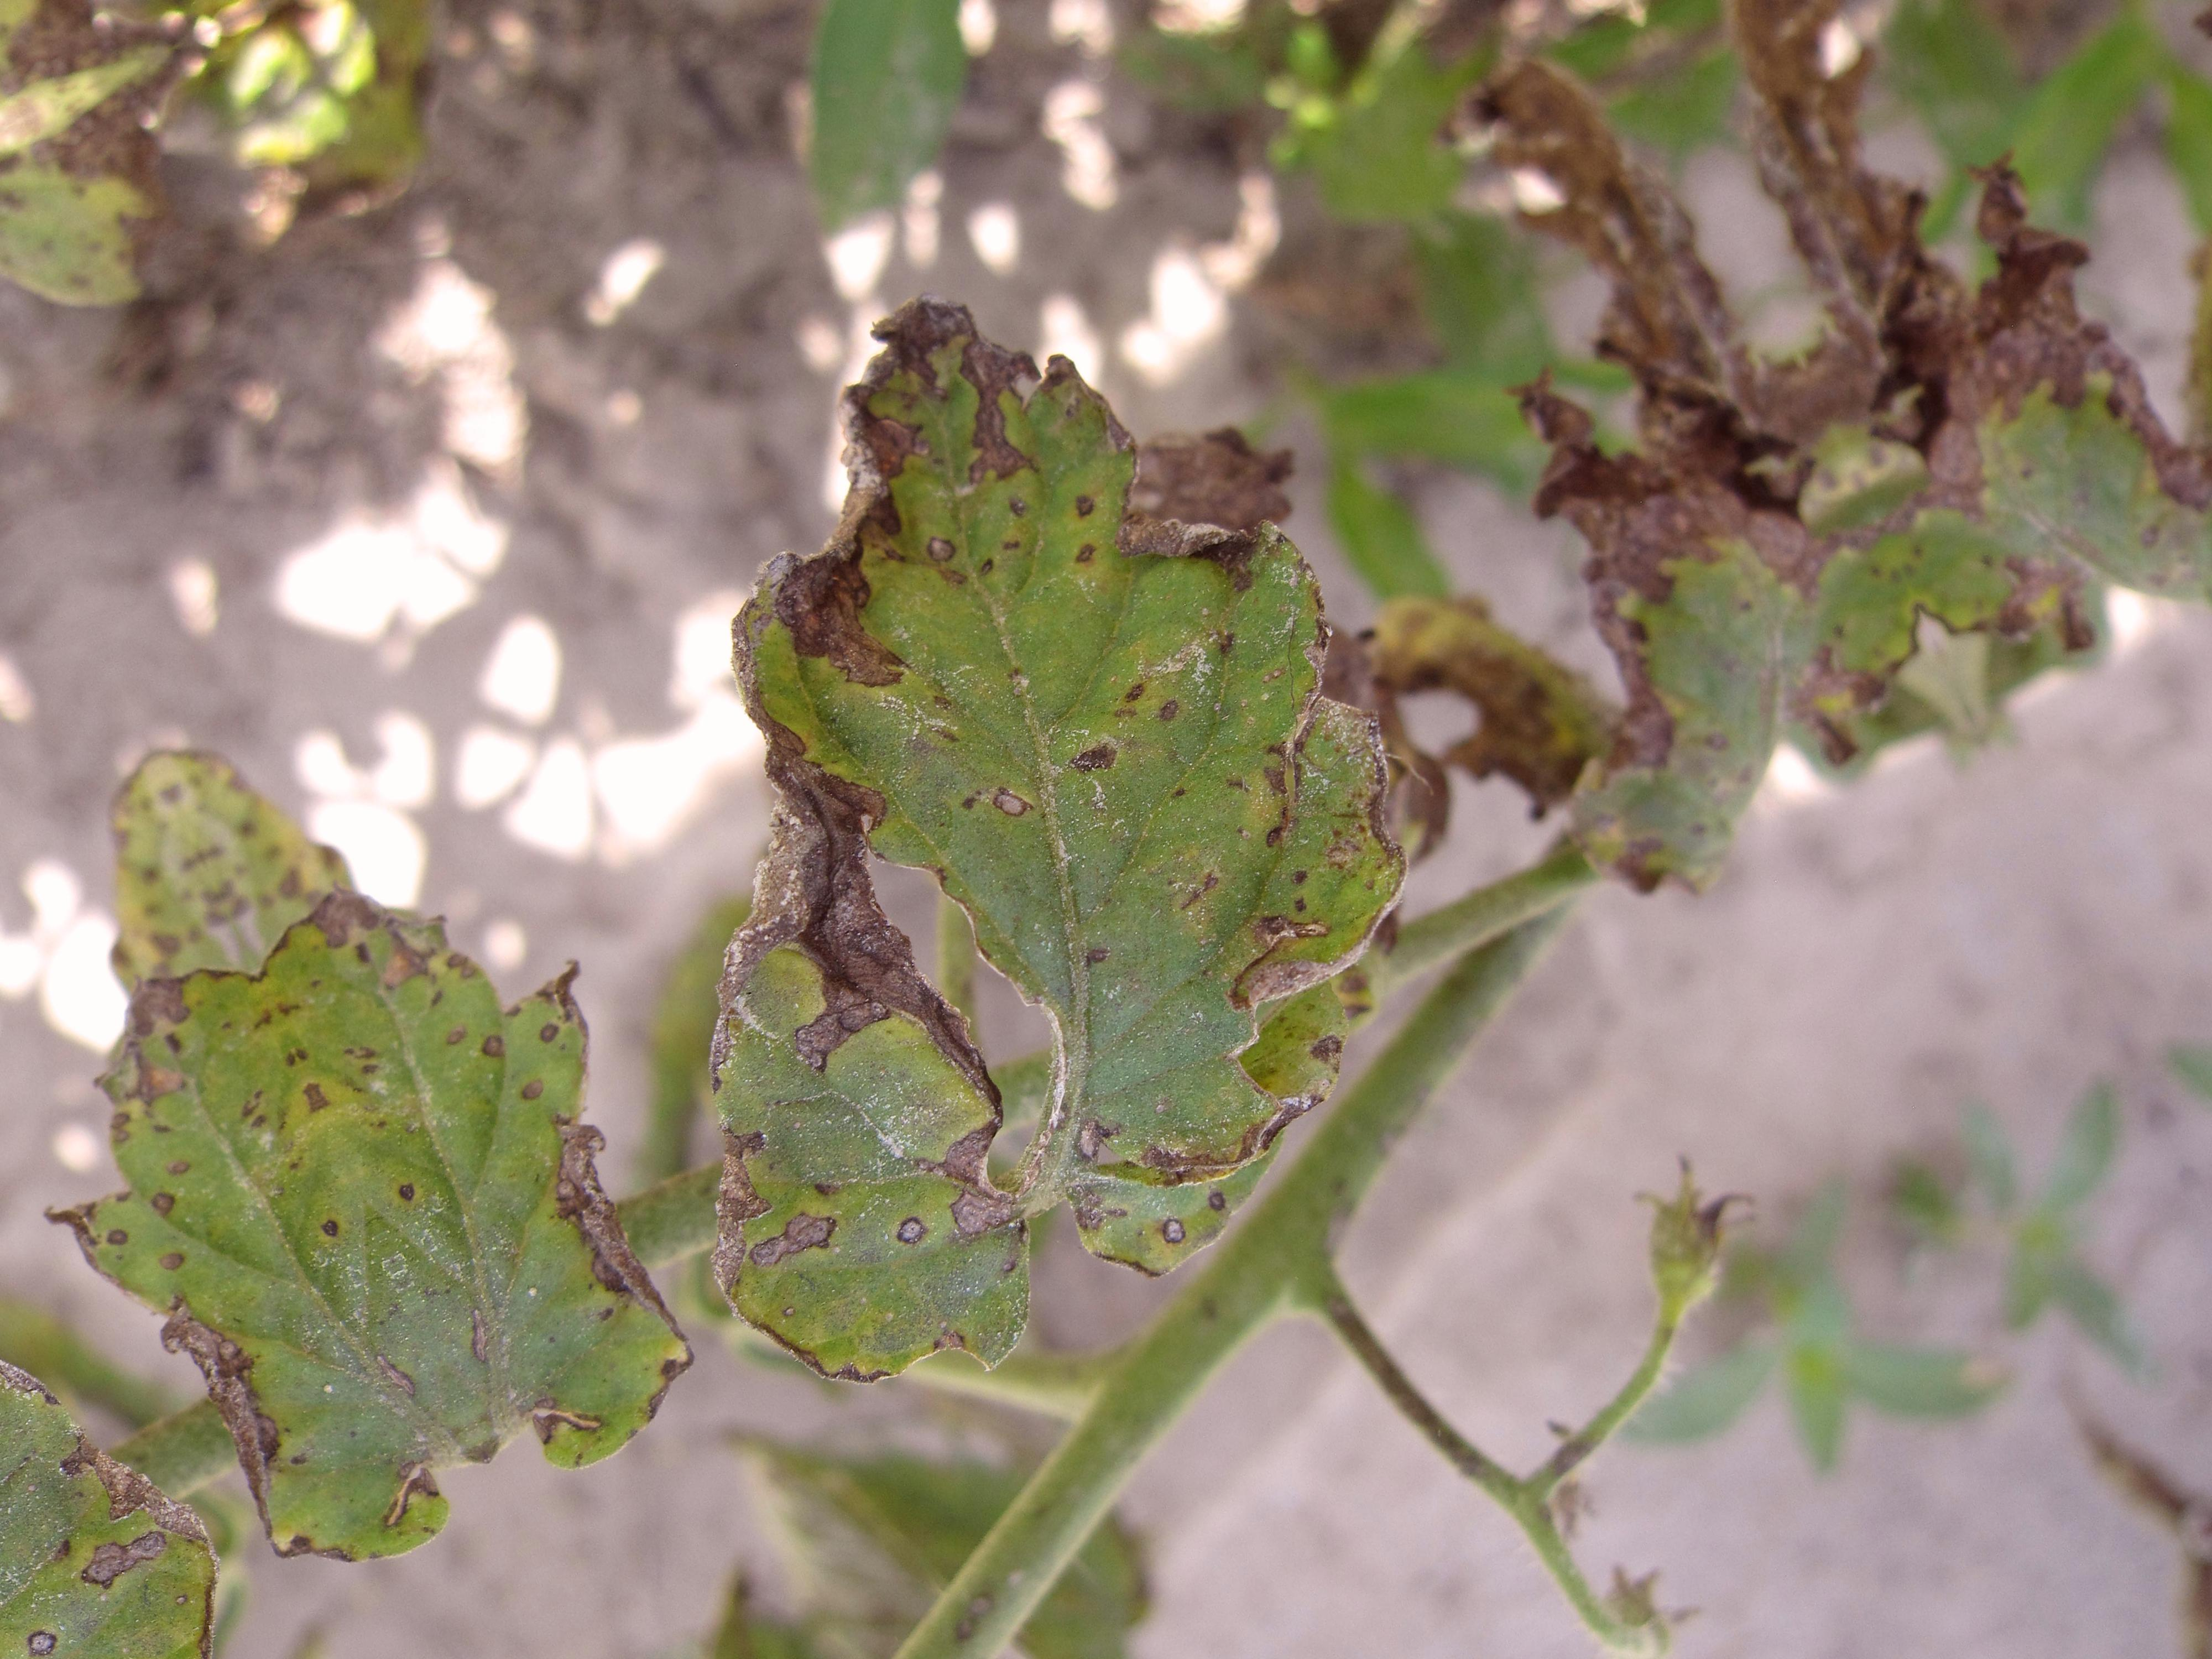Tomato leaf bacterial spot: (381, 188, 1656, 1530)
